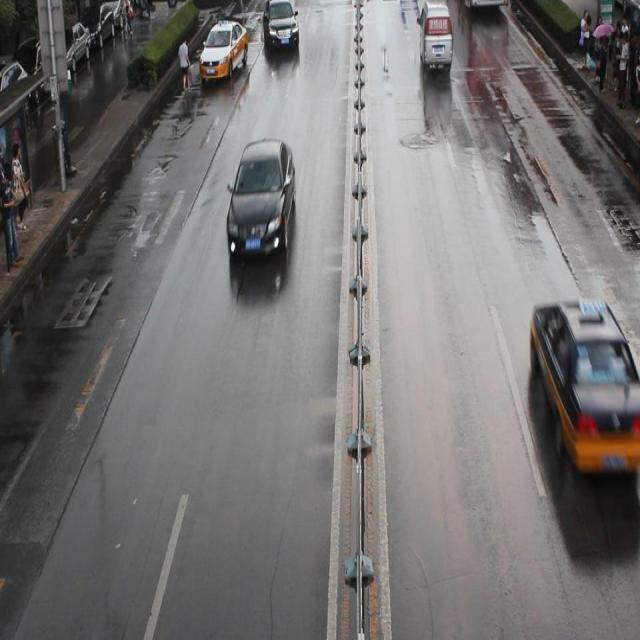car: (528, 295, 640, 477), (226, 139, 296, 259), (198, 18, 248, 82), (260, 1, 298, 54)
truck: (416, 1, 451, 69)
